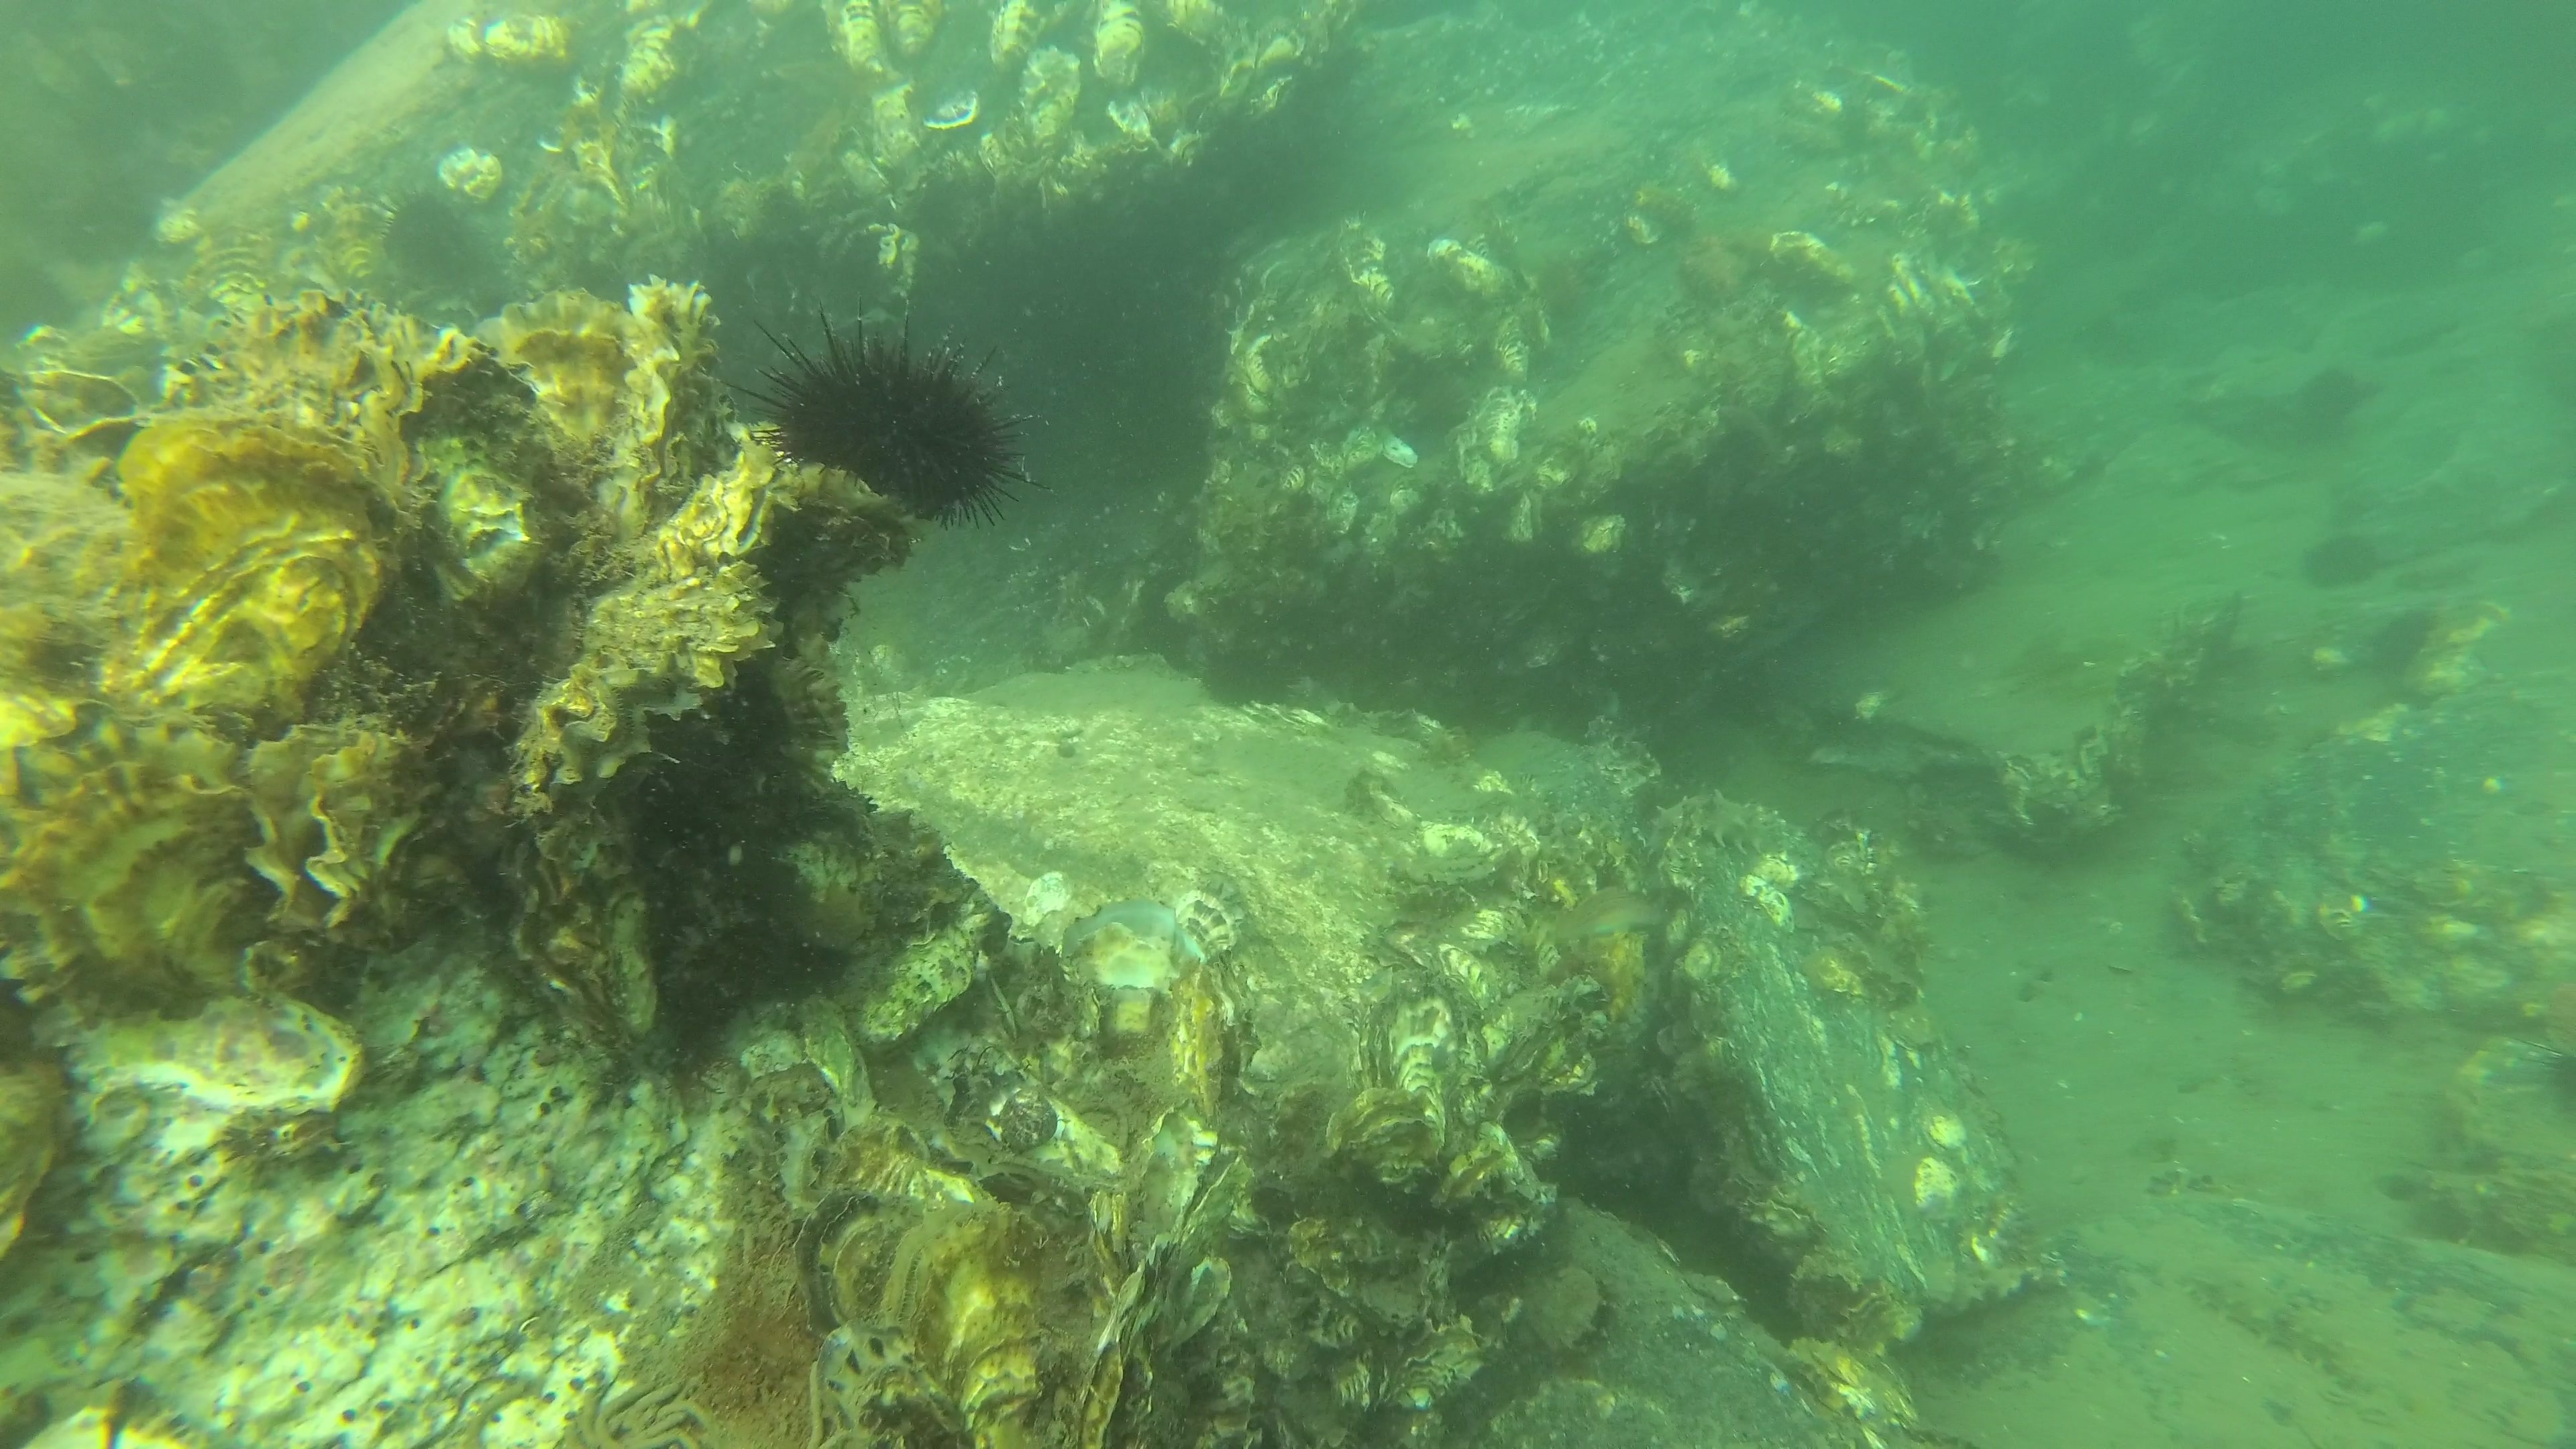echinus: (747, 304, 1035, 536), (2298, 525, 2388, 594), (2371, 596, 2442, 676), (2296, 361, 2371, 428)
holothurian: (1642, 786, 1789, 860)
